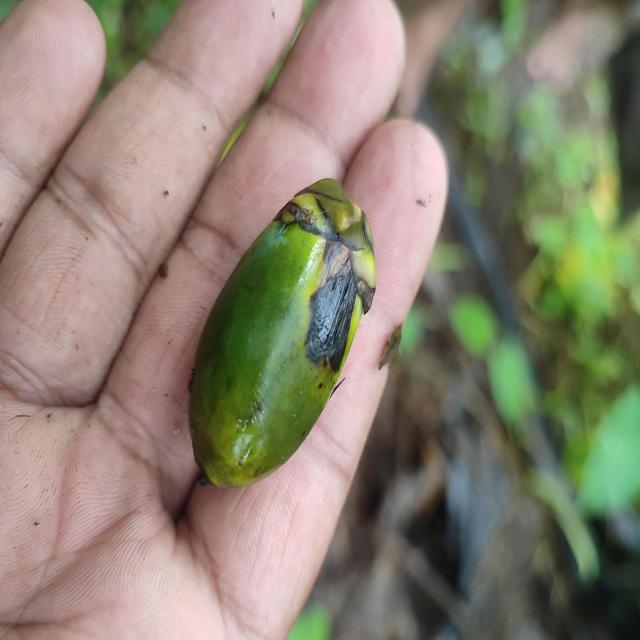damaged: (184, 177, 379, 491)
